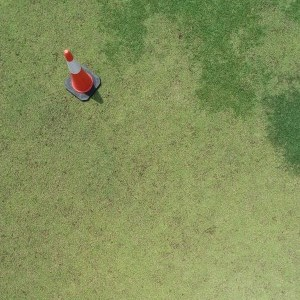traffic cone: (64, 49, 101, 102)
